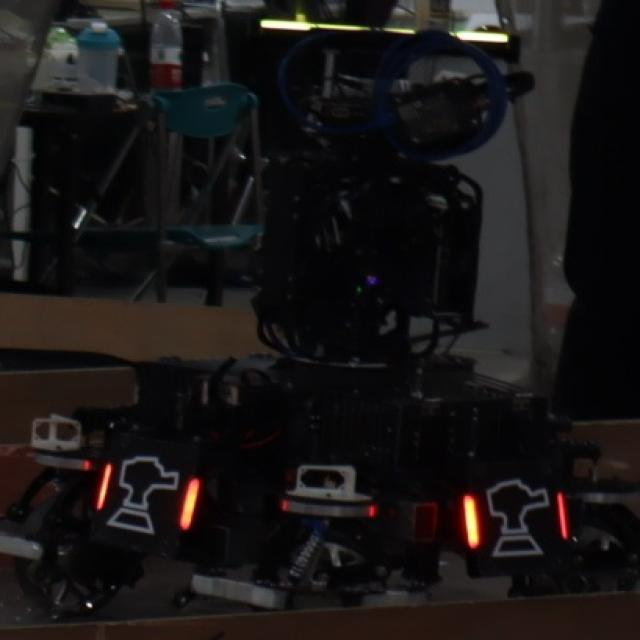Rs: (462, 472, 572, 566), (94, 453, 202, 540)
